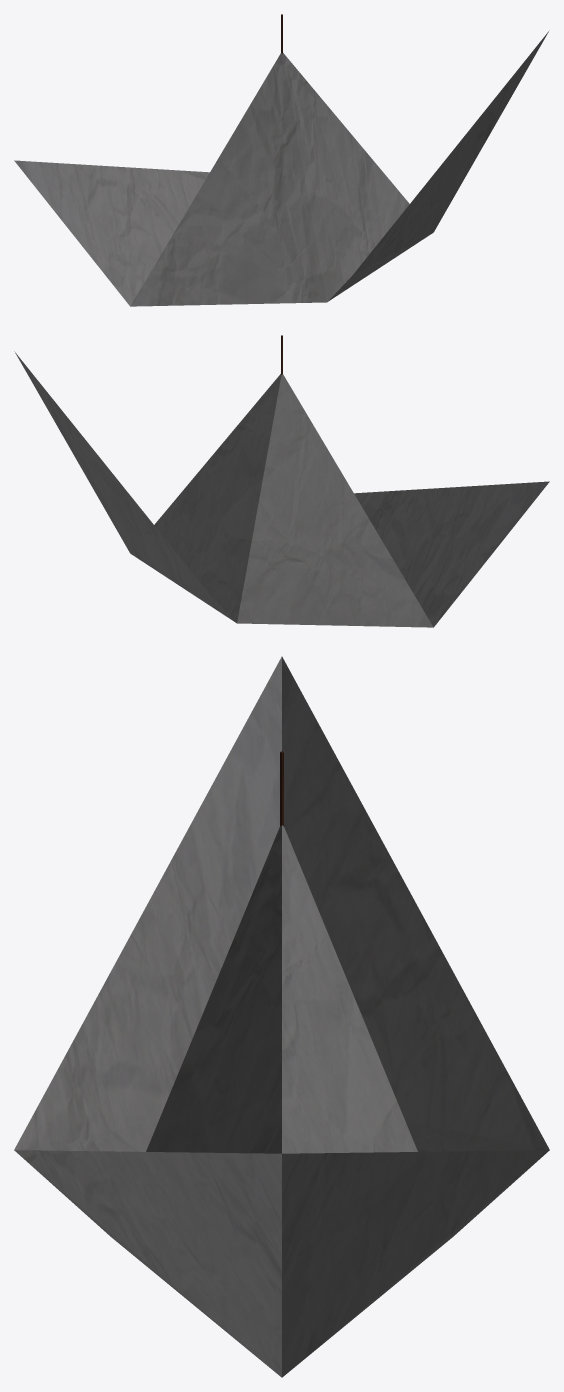
The model's file is boat.gltf.
The picture shows the model from 3 angles, top to bottom: view 1: azimuth 30°, elevation 25°; view 2: azimuth 150°, elevation 25°; view 3: azimuth 270°, elevation 25°; orthographic projection. The views are drawn at different scales.
Visible parts, largest first — view 1: ship:Mesh; view 2: ship:Mesh; view 3: ship:Mesh.
Boxes of the visible parts, box(x1,y1,x2,y2) form: ship:Mesh: box(14, 30, 549, 306); ship:Mesh: box(14, 351, 549, 627); ship:Mesh: box(14, 656, 549, 1377).
Size of the model in its own units: 1.86 by 0.843 by 0.8448.
Materials: 2 (2 with a texture image).
